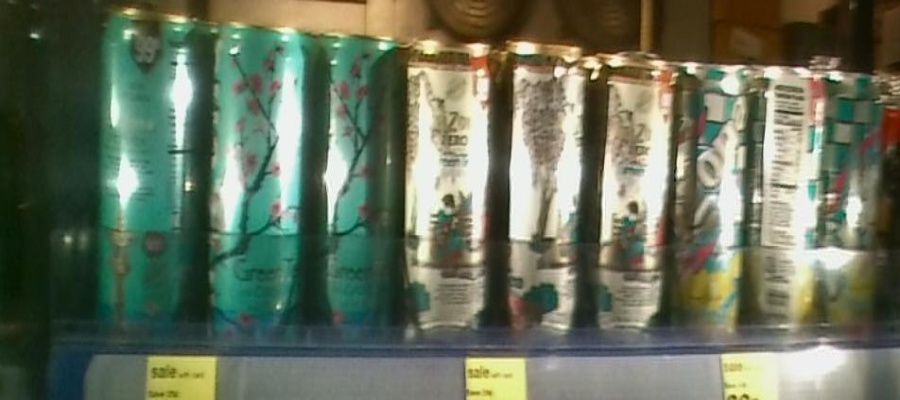bottle: (92, 9, 204, 349), (210, 5, 310, 358), (403, 16, 494, 347), (312, 8, 400, 350), (497, 23, 587, 345), (591, 24, 676, 347), (679, 36, 753, 346), (753, 41, 822, 345), (826, 43, 885, 349)
